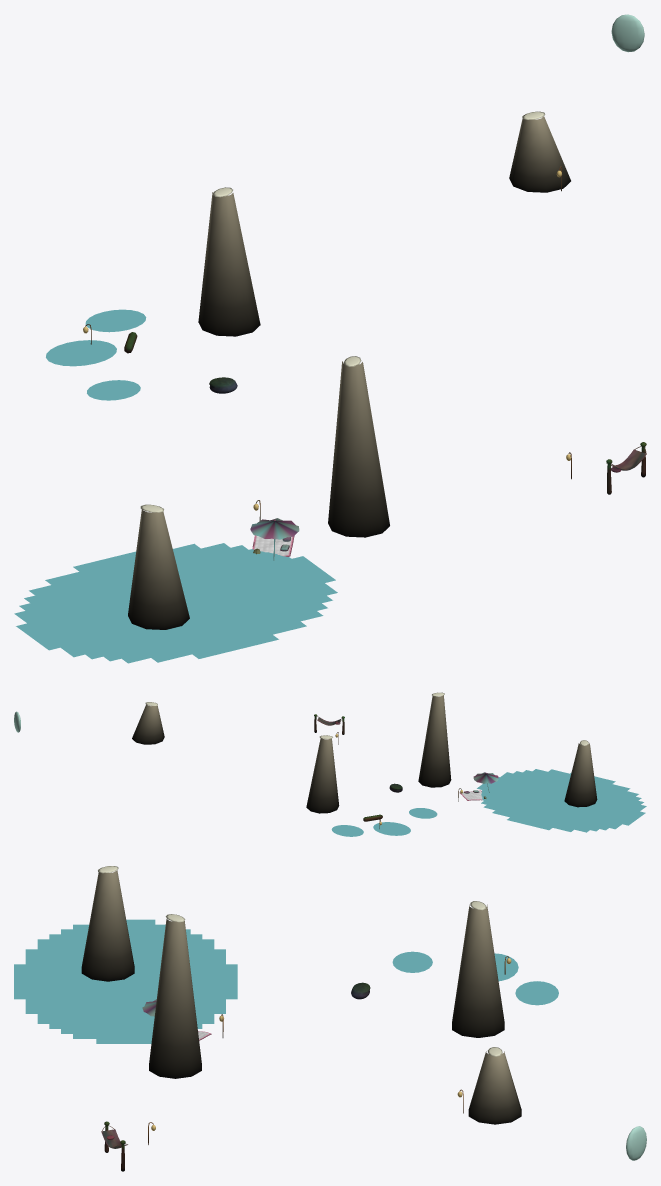
Rendered from prp_cave_set_lite.glb.
3 renders of one model, top to bottom at view 1: azimuth 30°, elevation 25°; view 2: azimuth 150°, elevation 25°; view 3: azimuth 270°, elevation 25°, orthographic. The views are drawn at different scales.
Visible parts, largest first — view 1: INST_prp_cave_set_lite_water_lagoon, INST_prp_cave_set_lite_shafts, INST_prp_cave_set_lite_setglow, INST_prp_cave_set_lite_set, INST_prp_cave_set_lite_water_pool_0, INST_prp_cave_set_lite_water_pool_1; view 2: INST_prp_cave_set_lite_water_lagoon, INST_prp_cave_set_lite_shafts, INST_prp_cave_set_lite_set, INST_prp_cave_set_lite_water_pool_0, INST_prp_cave_set_lite_setglow, INST_prp_cave_set_lite_water_pool_1, INST_prp_cave_set_lite_water_pool_2, INST_prp_cave_set_lite_canopy; view 3: INST_prp_cave_set_lite_shafts, INST_prp_cave_set_lite_water_lagoon, INST_prp_cave_set_lite_setglow, INST_prp_cave_set_lite_set, INST_prp_cave_set_lite_water_pool_1, INST_prp_cave_set_lite_water_pool_2, INST_prp_cave_set_lite_water_pool_0.
Boxes of the visible parts, x1,y1,x2,y2 form: INST_prp_cave_set_lite_water_lagoon: (14,543,337,663); INST_prp_cave_set_lite_shafts: (128,115,570,629); INST_prp_cave_set_lite_setglow: (83,14,644,512); INST_prp_cave_set_lite_set: (85,166,646,560); INST_prp_cave_set_lite_water_pool_0: (46,340,116,366); INST_prp_cave_set_lite_water_pool_1: (85,309,146,332); INST_prp_cave_set_lite_water_lagoon: (477,769,646,832); INST_prp_cave_set_lite_shafts: (132,695,597,813); INST_prp_cave_set_lite_set: (314,714,489,828); INST_prp_cave_set_lite_water_pool_0: (373,822,410,835); INST_prp_cave_set_lite_setglow: (14,692,588,825); INST_prp_cave_set_lite_water_pool_1: (331,825,363,836); INST_prp_cave_set_lite_water_pool_2: (409,808,437,818); INST_prp_cave_set_lite_canopy: (473,772,498,783); INST_prp_cave_set_lite_shafts: (81,870,521,1124); INST_prp_cave_set_lite_water_lagoon: (14,919,237,1043); INST_prp_cave_set_lite_setglow: (98,866,646,1160); INST_prp_cave_set_lite_set: (101,956,509,1171); INST_prp_cave_set_lite_water_pool_1: (515,981,558,1005); INST_prp_cave_set_lite_water_pool_2: (392,951,432,972); INST_prp_cave_set_lite_water_pool_0: (494,953,518,981).
Size of the model in its own units: 54.47 by 12.98 by 37.62.
